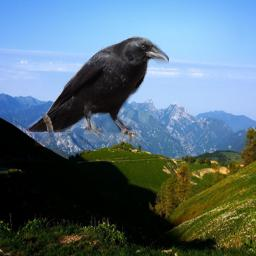Crow: (21, 35, 169, 146)
